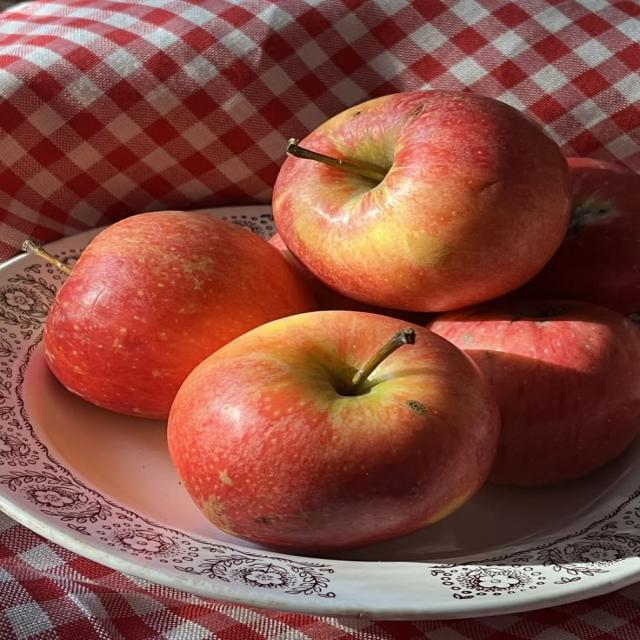apple: (168, 311, 499, 552), (273, 91, 570, 311), (44, 211, 316, 418), (429, 299, 639, 486), (519, 158, 639, 314), (269, 233, 432, 324)
